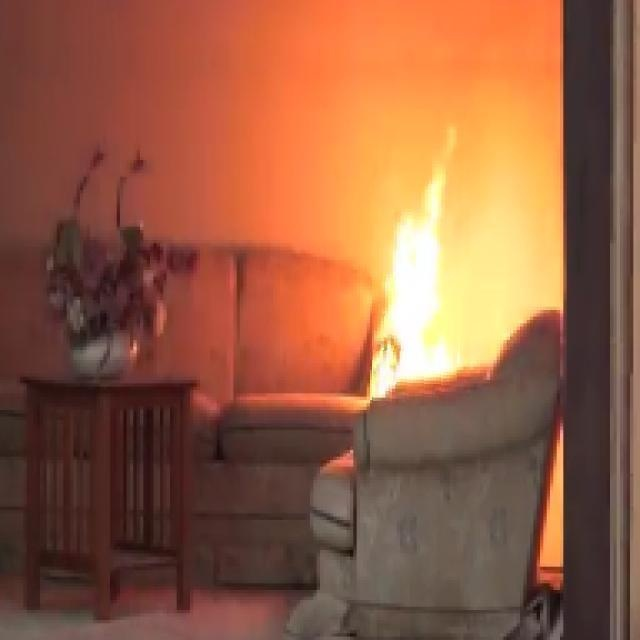fire: (363, 149, 489, 398)
